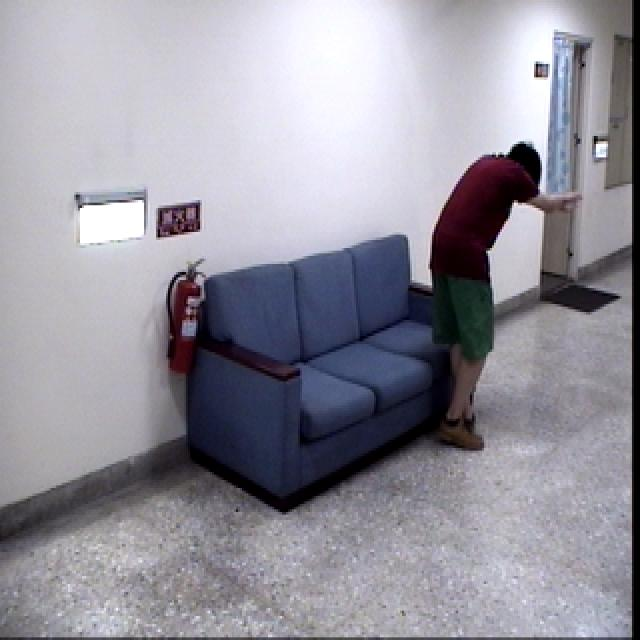bend: (420, 134, 586, 467)
